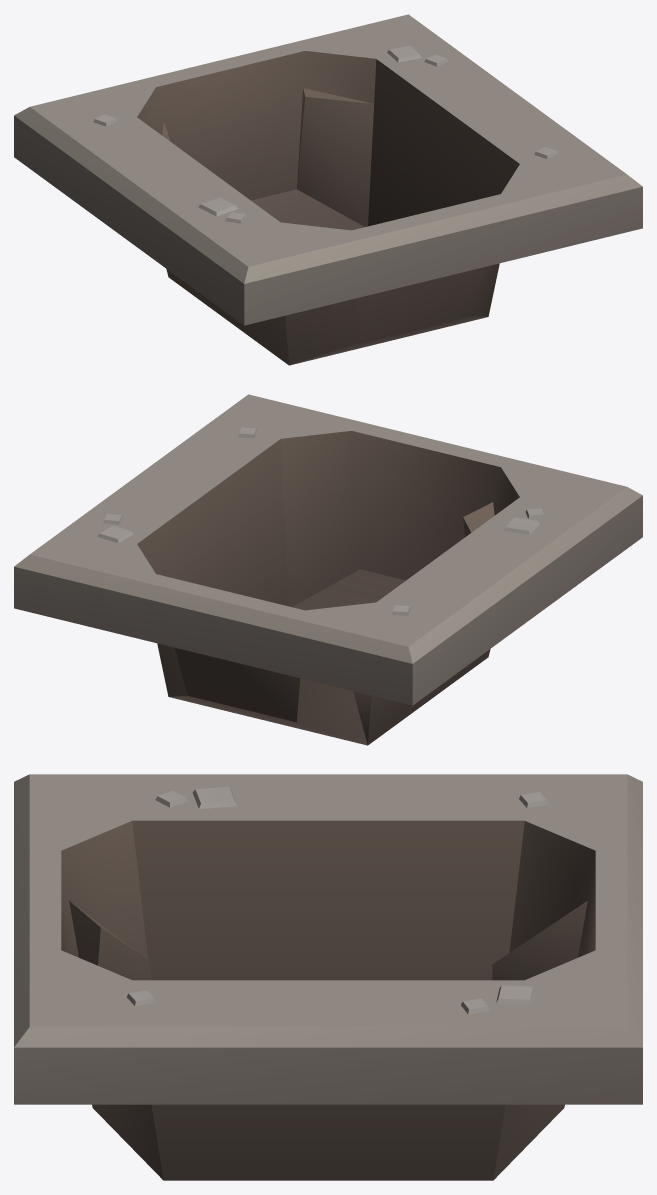
Rendered from floor_dirt_grave.obj.
3 renders of one model, top to bottom at view 1: azimuth 30°, elevation 25°; view 2: azimuth 150°, elevation 25°; view 3: azimuth 270°, elevation 25°, orthographic. The views are drawn at different scales.
Parts seen in each view (by area): view 1: floor_dirt_grave_Cube.135; view 2: floor_dirt_grave_Cube.135; view 3: floor_dirt_grave_Cube.135.
Part boxes in pixels (left/top/right/bottom): floor_dirt_grave_Cube.135: left=14, top=14, right=642, bottom=365; floor_dirt_grave_Cube.135: left=14, top=394, right=642, bottom=745; floor_dirt_grave_Cube.135: left=14, top=774, right=642, bottom=1180.
Size of the model in its own units: 4 by 1.53 by 4.
1 material, 1 textured.
